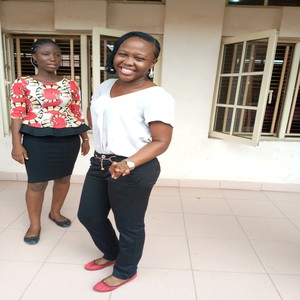Fulokoja_female_student: (90, 31, 164, 283), (14, 35, 76, 240)
